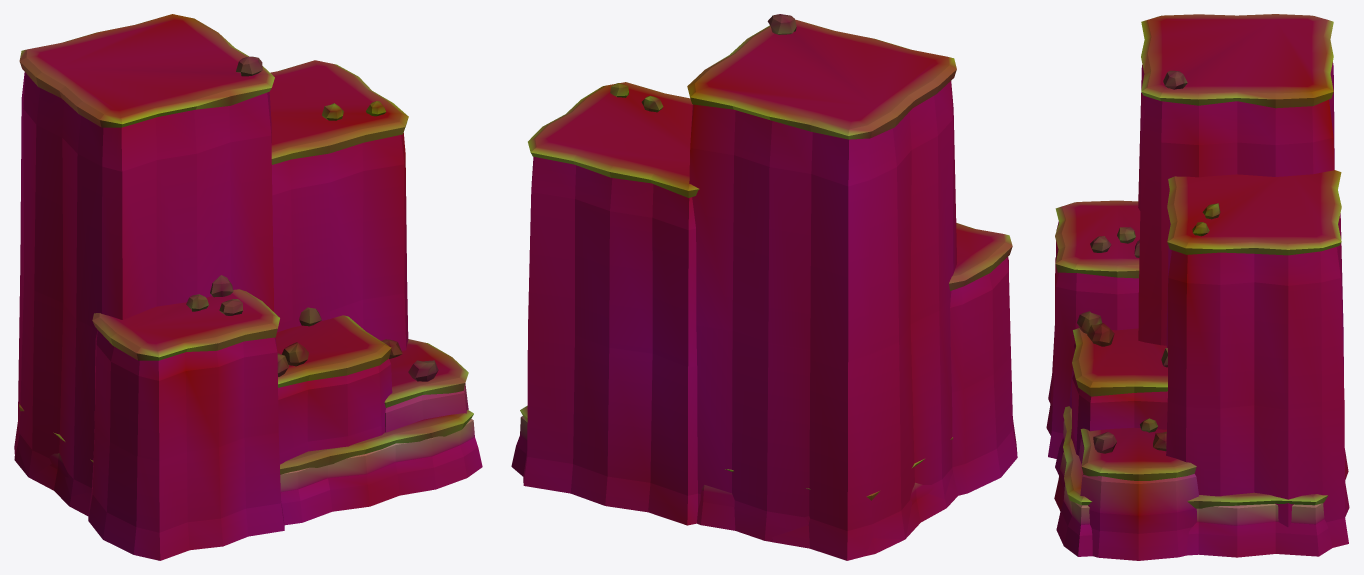
Rendered from Cliff_Big_01.glb.
The picture shows the model from 3 angles, left to right: view 1: azimuth 30°, elevation 25°; view 2: azimuth 150°, elevation 25°; view 3: azimuth 270°, elevation 25°; orthographic projection. The views are drawn at different scales.
Visible parts, largest first — view 1: Cliff_Big_01; view 2: Cliff_Big_01; view 3: Cliff_Big_01.
Boxes of the visible parts, x1,y1,x2,y2 form: Cliff_Big_01: (14, 14, 482, 560); Cliff_Big_01: (511, 14, 1017, 560); Cliff_Big_01: (1046, 14, 1349, 560).
Size of the model in its own units: 9.5 by 10.3 by 7.08.
